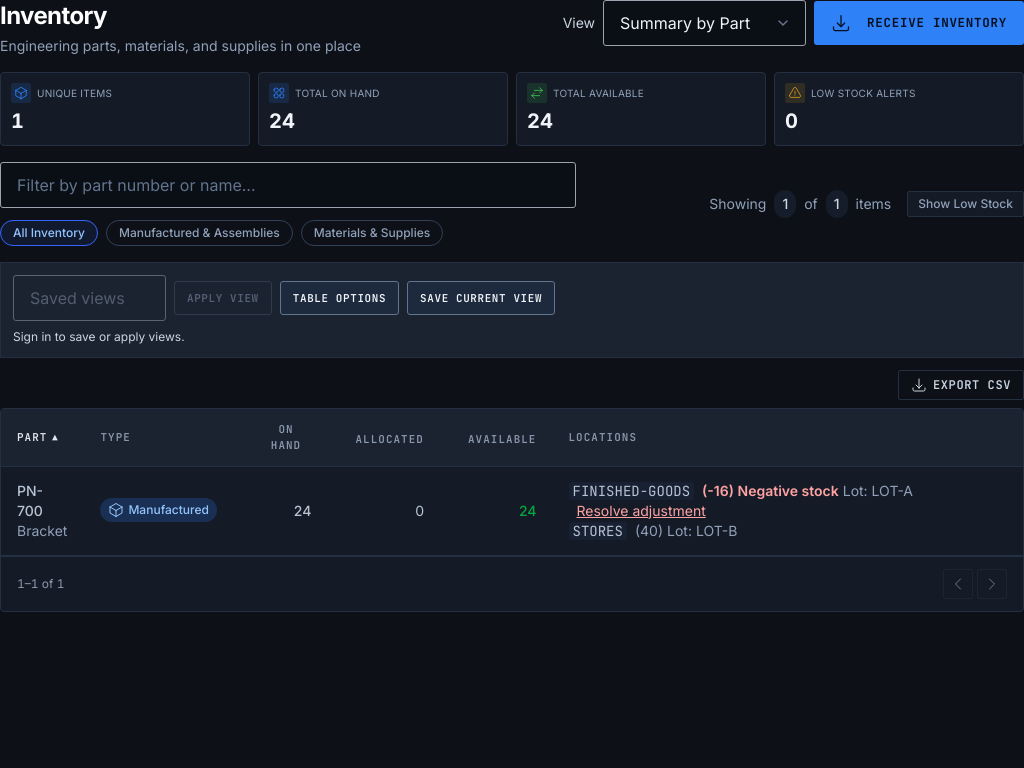
Test: requires selection when the summary location matches multiple stock records
The image size is (1024, 768).
Click the button "Resolve adjustment" at (641,511), box 576,501 -> 706,521
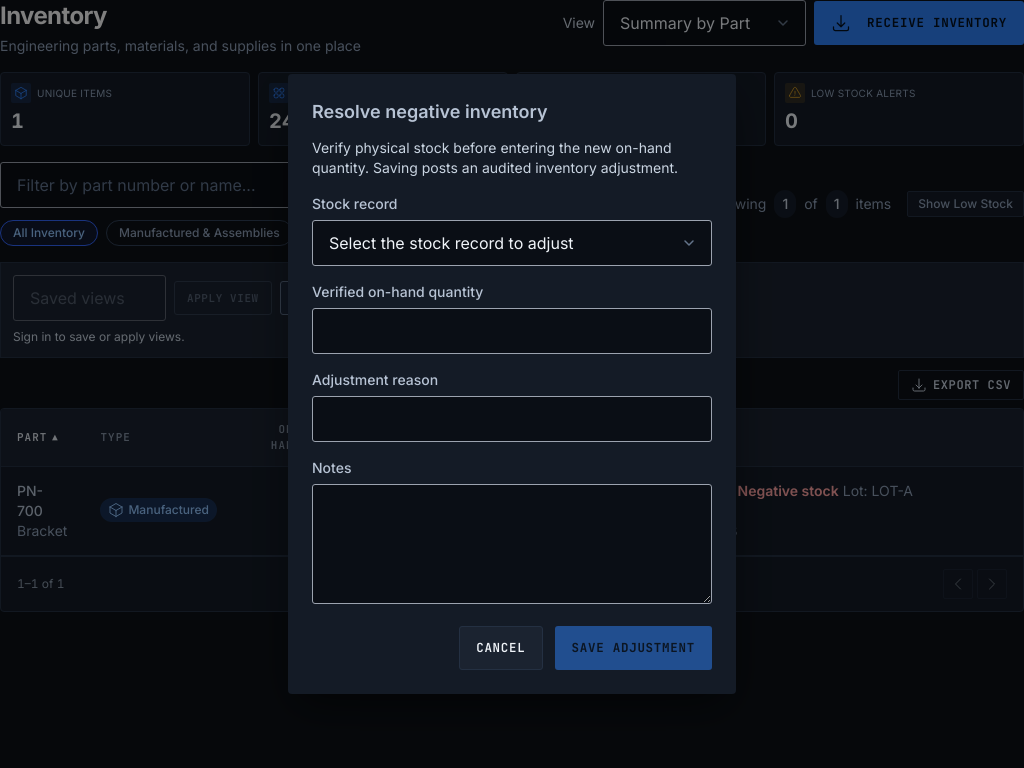
Result: the dropdown labelled "Stock record" shows "Select the stock record to adjust"
Result: the button "Save adjustment" is disabled at 554,626 -> 712,670
Select "Record #23 · MAIN / FINISHED-GOODS · Lot LOT-A · Serial S-2 · On hand -16" in the dropdown labelled "Stock record" at (512,243), box 312,220 -> 712,266
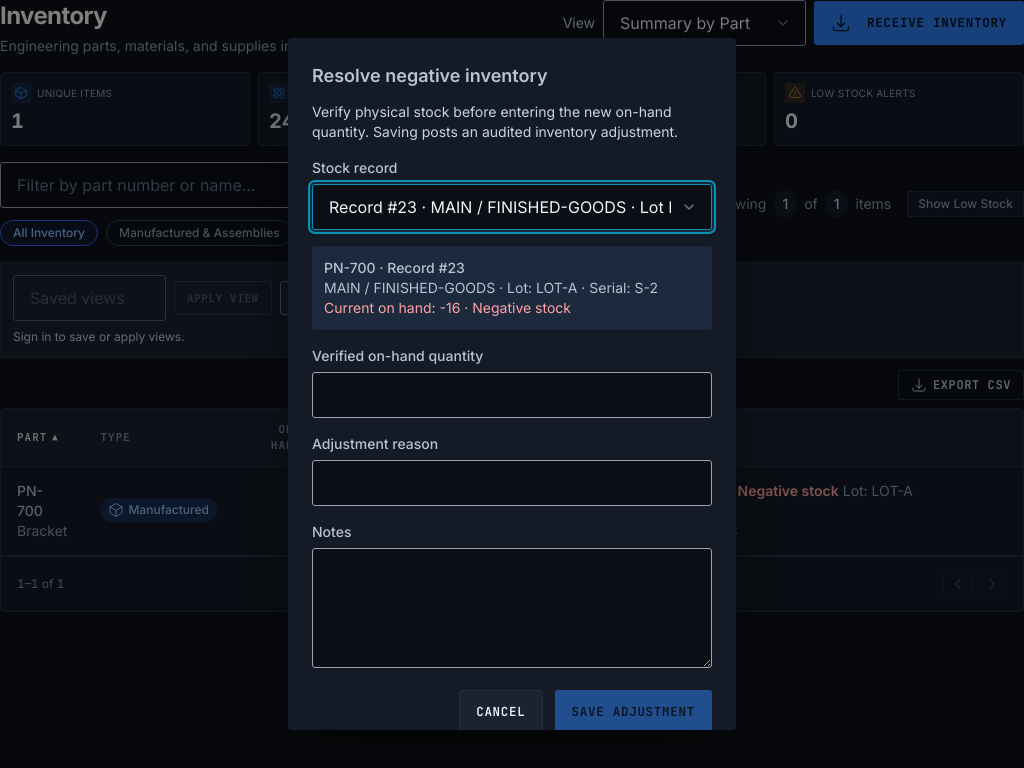
Result: the dialog "Resolve negative inventory" shows "PN-700 · Record #23" at 288,38 -> 736,730
Result: the dialog "Resolve negative inventory" shows "Serial: S-2" at 577,279 -> 658,296
